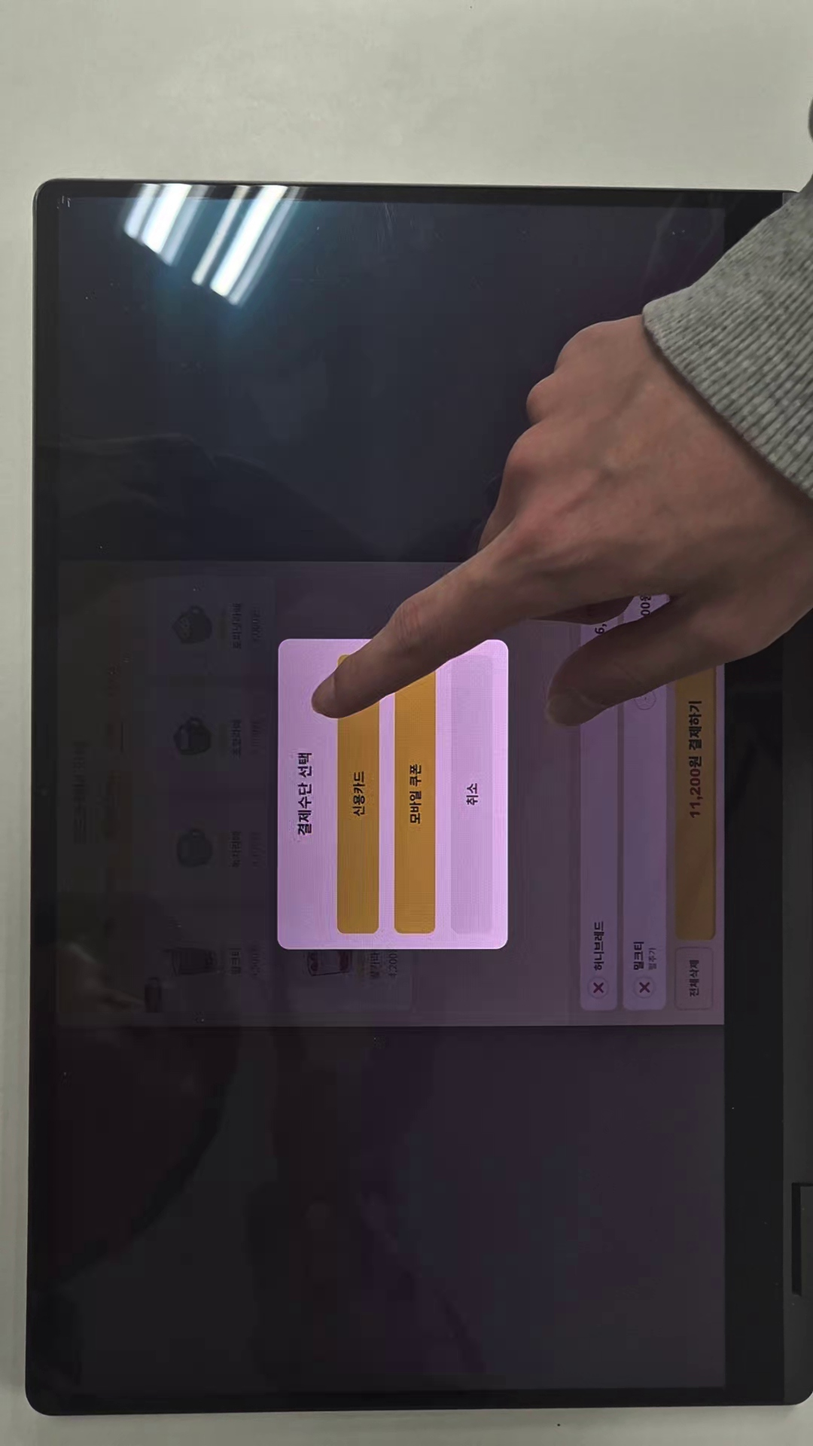action_button: (450, 654, 493, 933)
option_button: (337, 654, 379, 934)
popup_modal: (278, 639, 508, 950)
